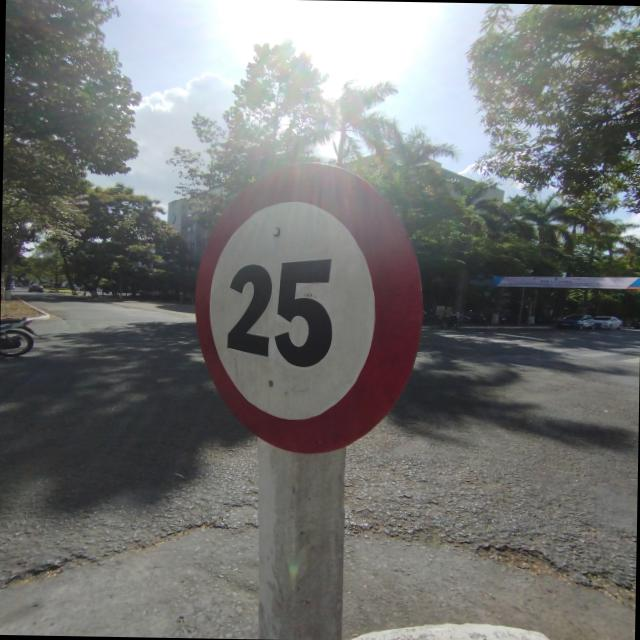Tre_Em: (189, 156, 427, 454)
